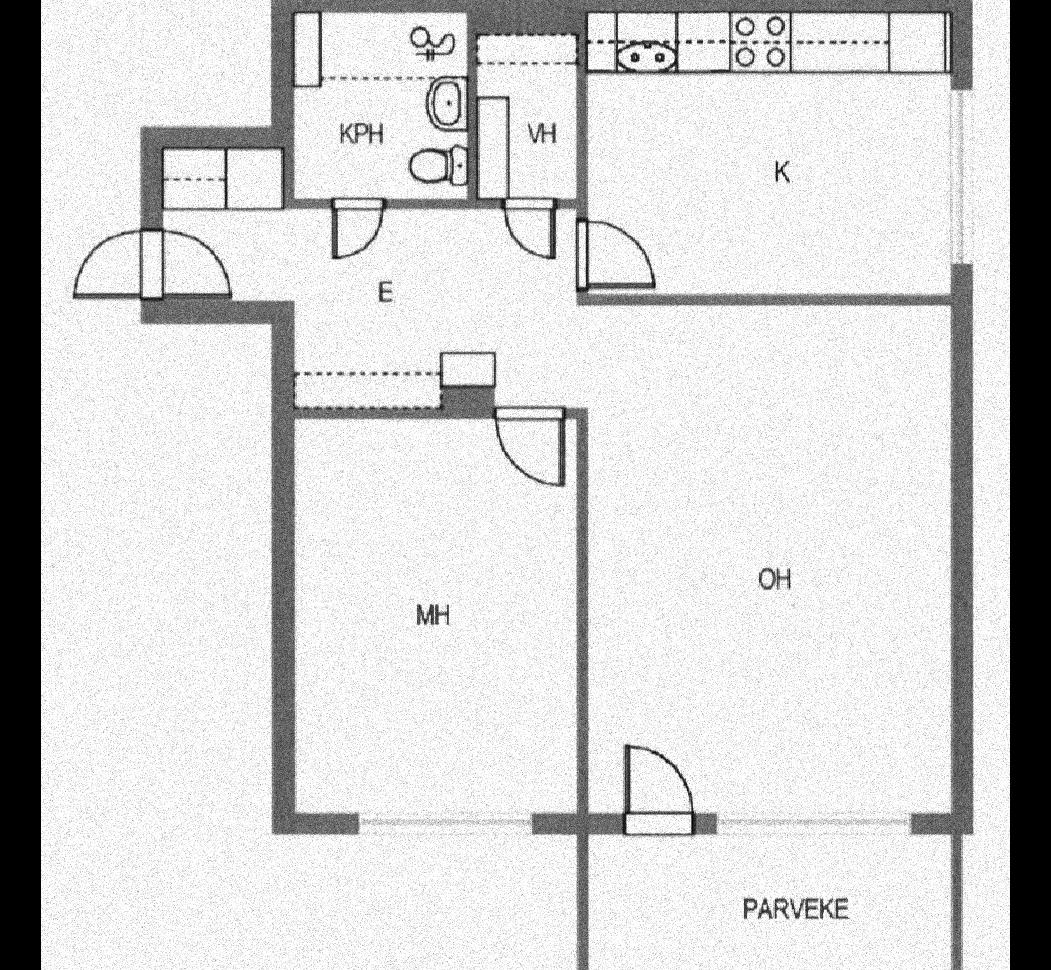door: (66, 228, 246, 310), (612, 742, 694, 842), (568, 208, 660, 296), (496, 404, 564, 496), (494, 192, 556, 262), (324, 199, 384, 265)
window: (716, 810, 910, 834), (952, 92, 978, 260), (355, 816, 536, 835)
zone: (159, 150, 954, 812), (286, 416, 578, 812), (583, 8, 948, 293), (586, 13, 950, 292), (586, 829, 952, 970), (300, 10, 470, 200), (478, 28, 576, 194)
